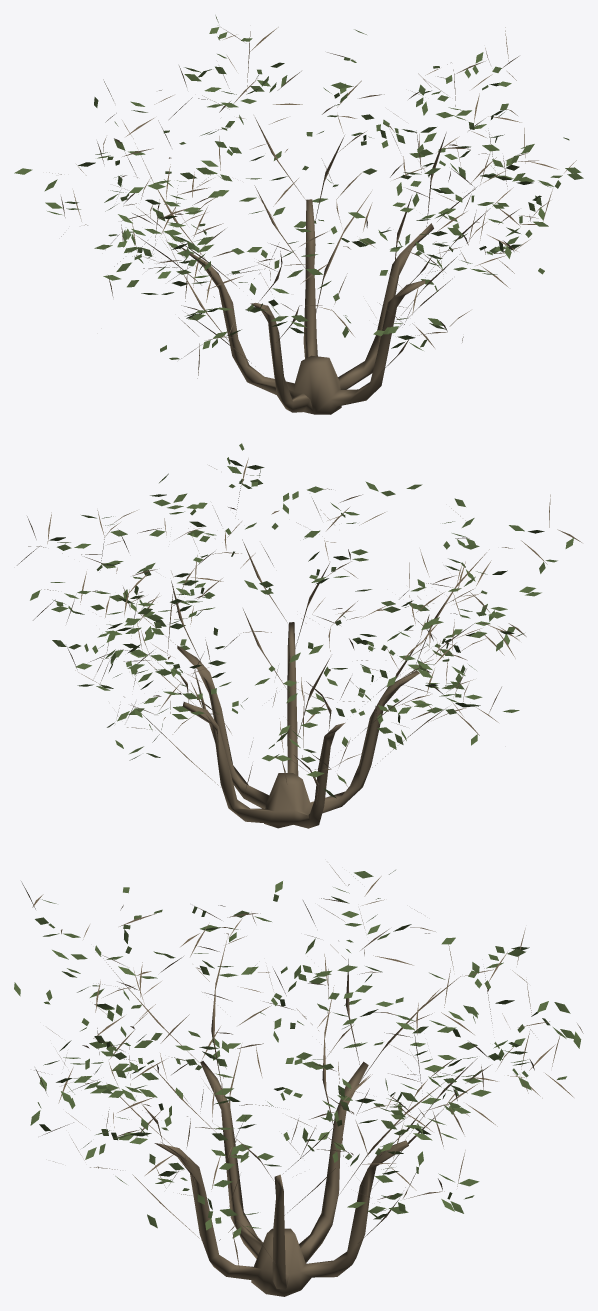
Rendered from Lentisque_0_Niveau2.fbx.
3 views of the same model, one above another, from view 1: azimuth 30°, elevation 25°; view 2: azimuth 150°, elevation 25°; view 3: azimuth 270°, elevation 25° (orthographic). The views are drawn at different scales.
Visible parts, largest first — view 1: Lentisque_0_Niveau2; view 2: Lentisque_0_Niveau2; view 3: Lentisque_0_Niveau2.
Part boxes in pixels (<box>): Lentisque_0_Niveau2: <box>14,15,583,414</box>; Lentisque_0_Niveau2: <box>17,443,581,828</box>; Lentisque_0_Niveau2: <box>14,864,583,1296</box>.
Bounding box in the file's own units: 167 × 99.87 × 152.
